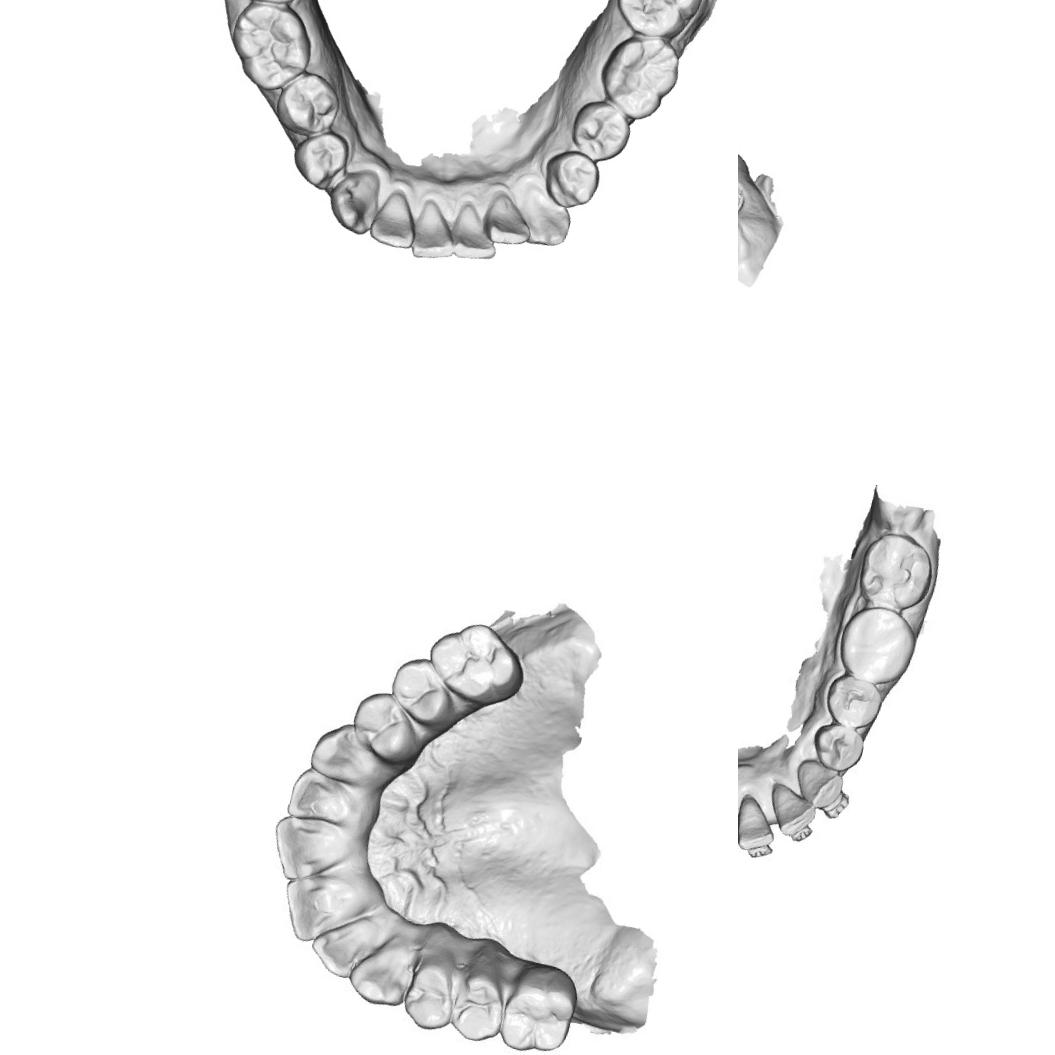canine: (306, 720, 398, 794), (348, 934, 418, 1011), (510, 179, 580, 254), (321, 164, 383, 240), (788, 756, 850, 816)
implant_minus: (738, 174, 751, 227)
incisor: (273, 866, 359, 950), (263, 808, 344, 890), (282, 767, 367, 837), (308, 912, 376, 984), (758, 778, 823, 846), (475, 190, 543, 254), (364, 184, 424, 255), (445, 198, 506, 267), (406, 197, 465, 267), (738, 793, 780, 859)
molar: (211, 0, 323, 101), (419, 612, 528, 711), (588, 25, 686, 130), (494, 962, 583, 1055), (831, 600, 918, 692), (854, 526, 939, 616), (607, 0, 714, 47)
premolar: (446, 952, 518, 1047), (268, 62, 350, 145), (344, 688, 429, 762), (398, 948, 466, 1036), (564, 92, 639, 169), (384, 653, 464, 724), (286, 122, 360, 198), (534, 143, 608, 217), (820, 672, 885, 734), (808, 719, 868, 776)
